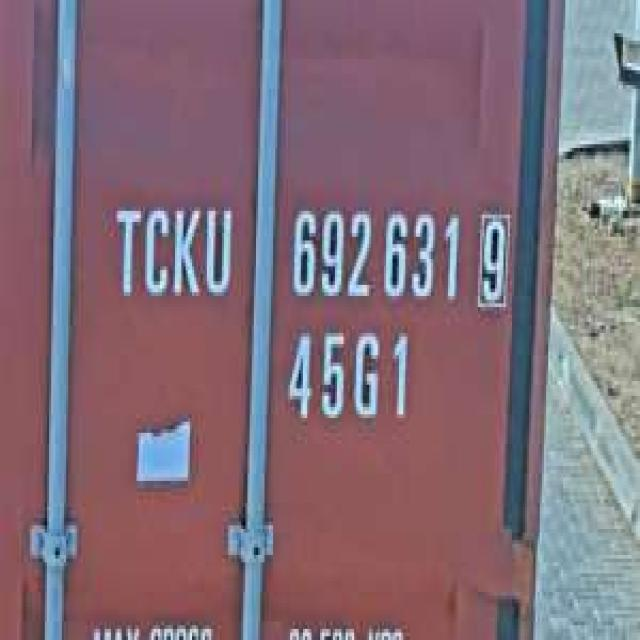dv: (471, 200, 512, 314)
owner: (106, 192, 236, 311)
serial: (284, 196, 463, 311)
size: (279, 322, 414, 436)
